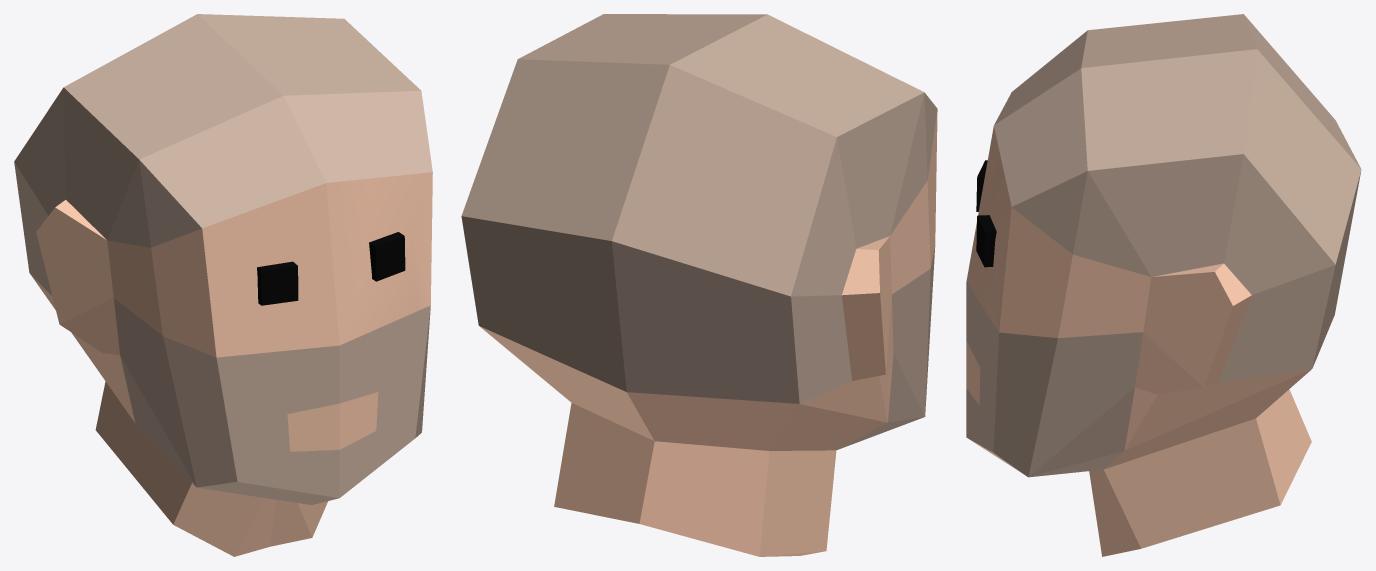
File: Chr_Head_Male_17_Static.fbx
3 views of the same model, side by side, from view 1: azimuth 30°, elevation 25°; view 2: azimuth 150°, elevation 25°; view 3: azimuth 270°, elevation 25° (orthographic). The views are drawn at different scales.
Parts seen in each view (by area): view 1: Chr_Head_Male_17_Static; view 2: Chr_Head_Male_17_Static; view 3: Chr_Head_Male_17_Static.
Boxes of the visible parts, x1,y1,x2,y2 form: Chr_Head_Male_17_Static: (14, 14, 432, 556); Chr_Head_Male_17_Static: (461, 14, 937, 556); Chr_Head_Male_17_Static: (966, 14, 1361, 556).
Size of the model in its own units: 0.2661 by 0.3523 by 0.2574.
